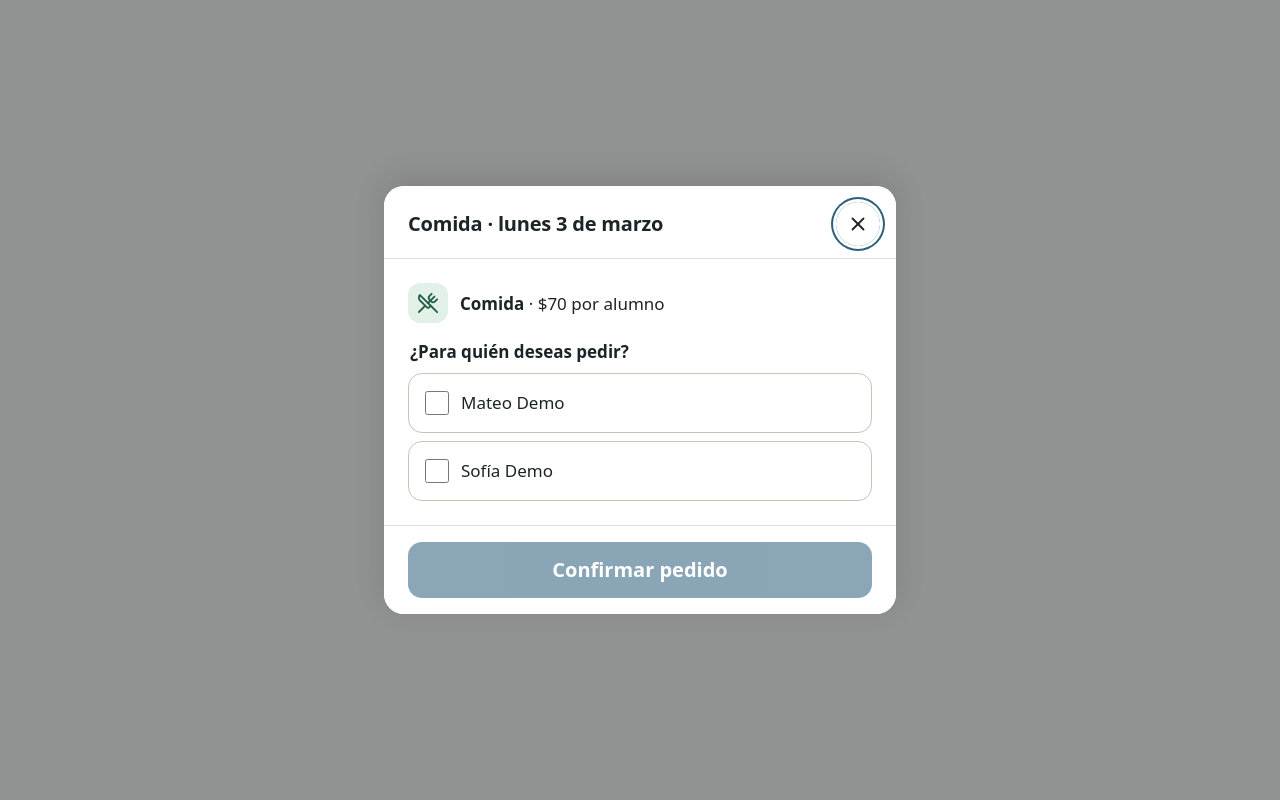
Test: OrderSheet › 22. dos hijos: resumen y total correctos y se envían ambos
Click the checkbox labelled "Mateo Demo" at (437, 403), box [425,391,449,415]
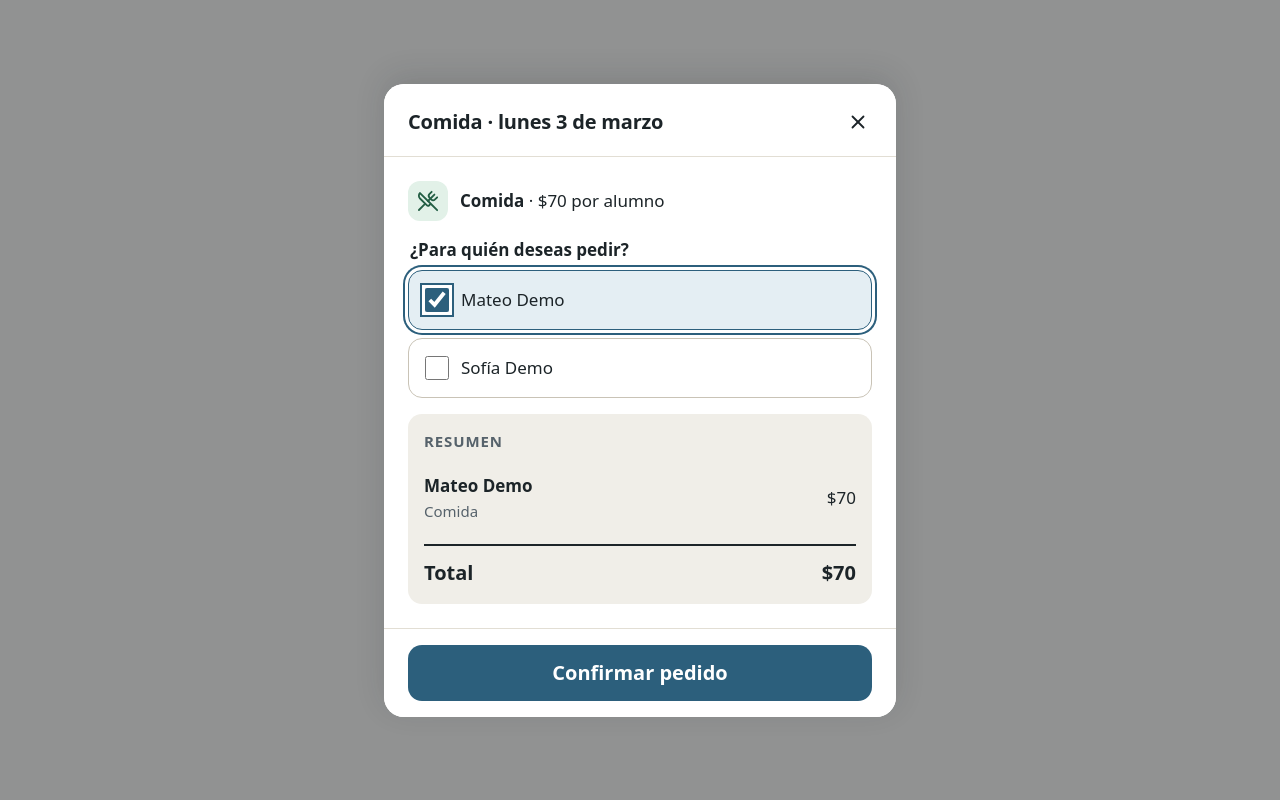
Click the checkbox labelled "Sofía Demo" at (437, 368), box [425,356,449,380]
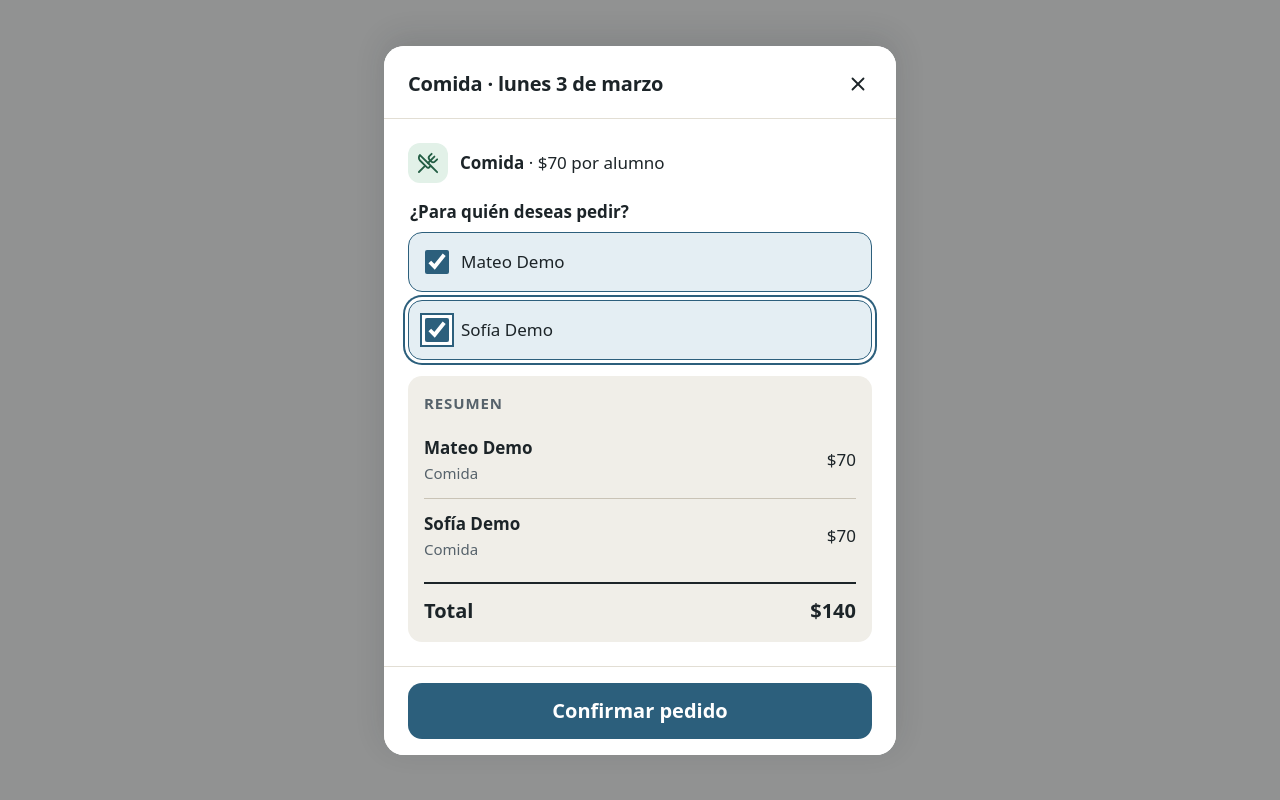
Expected: the text "$140" is shown, [810,596,856,626]
Click the button "Confirmar pedido" at (640, 710), box [408,682,872,738]
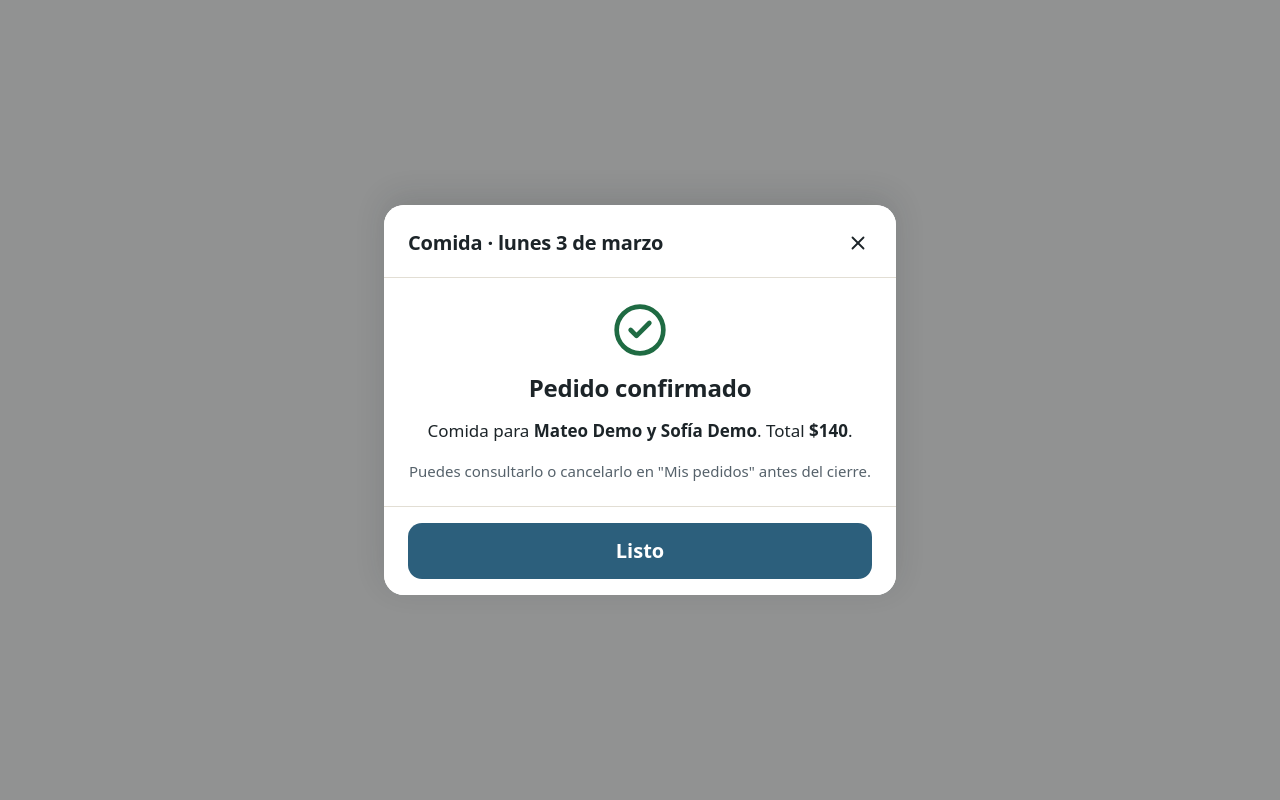
Expected: the heading "Pedido confirmado" is shown, [529,371,751,404]
